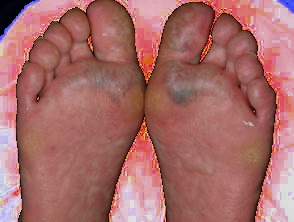SJS-TEN: (142, 0, 285, 222), (12, 0, 147, 222)
